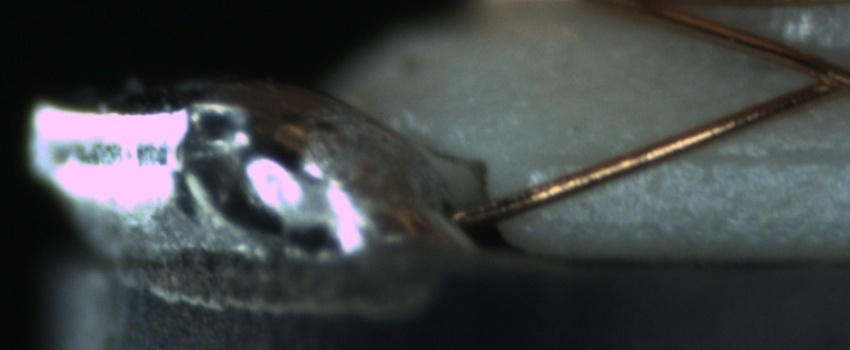CL: (791, 50, 850, 103)
DL: (532, 125, 850, 188)
